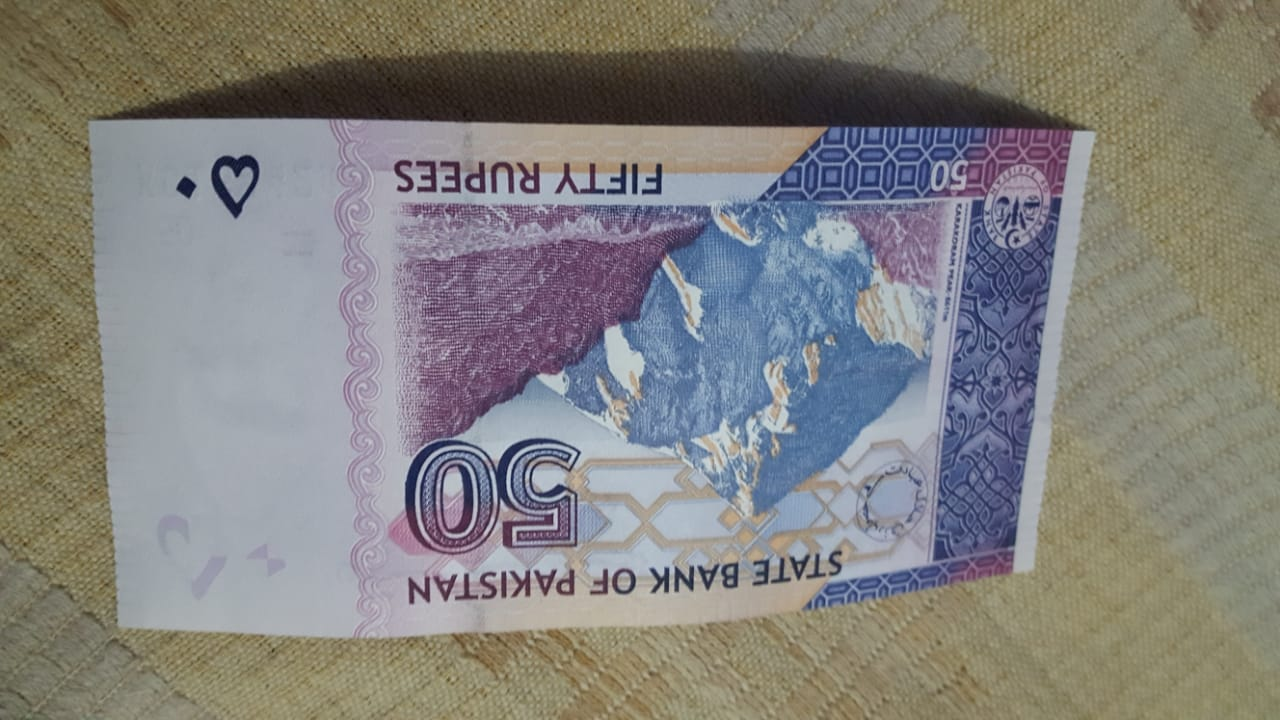50 rupee: (79, 107, 1095, 656)
